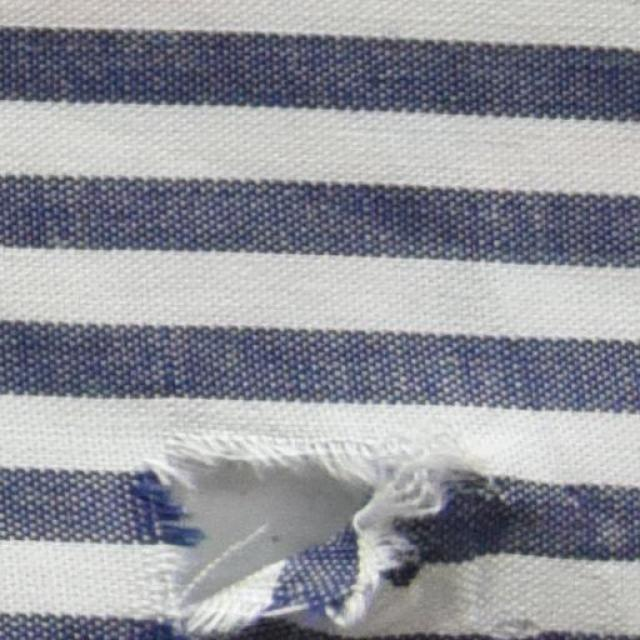cut: (126, 438, 463, 638)
